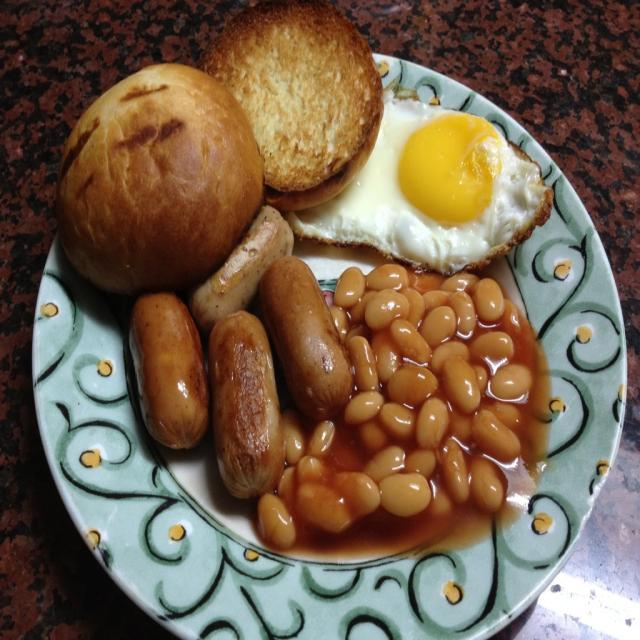Egg: (286, 84, 558, 279)
